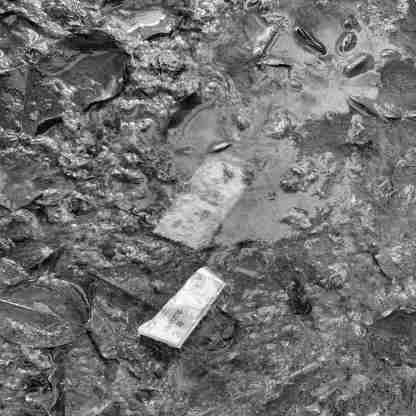plastic: (140, 269, 226, 342)
